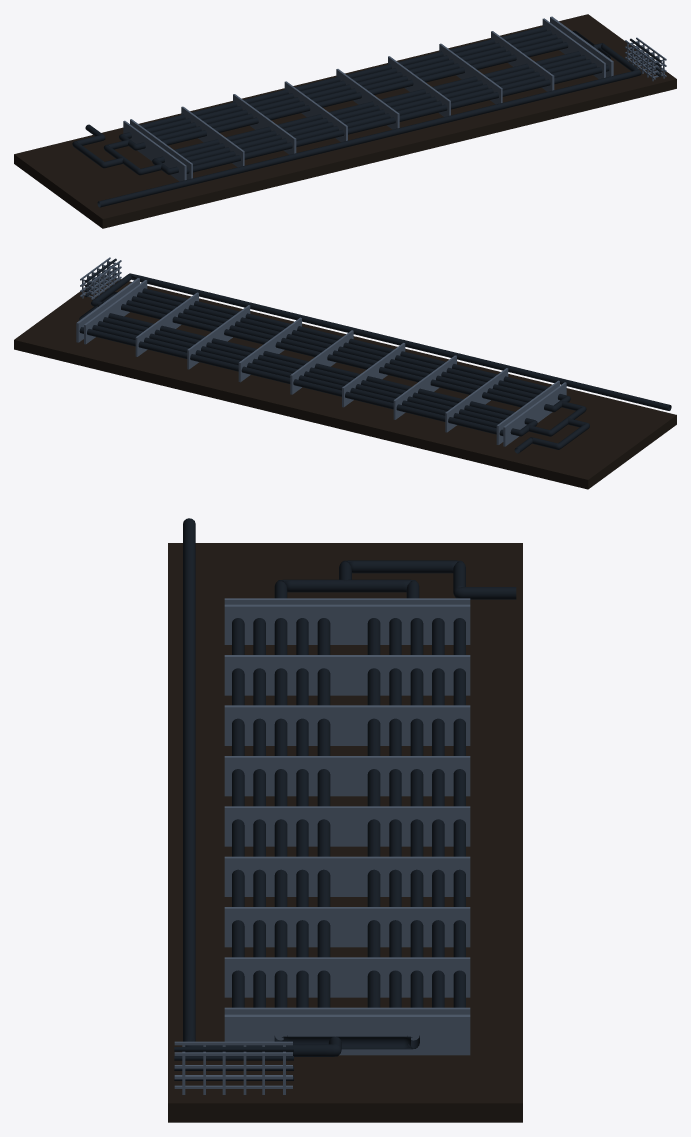
File: Slug Catcher.fbx
3 renders of one model, top to bottom at view 1: azimuth 30°, elevation 25°; view 2: azimuth 150°, elevation 25°; view 3: azimuth 270°, elevation 25°, orthographic. The views are drawn at different scales.
Visible parts, largest first — view 1: SlugCatcher; view 2: SlugCatcher; view 3: SlugCatcher.
Boxes of the visible parts, bbox=[...] form: SlugCatcher: bbox=[14, 14, 676, 228]; SlugCatcher: bbox=[14, 257, 676, 489]; SlugCatcher: bbox=[168, 518, 522, 1122].
Bounding box in the file's own units: 99.98 × 5.1 × 26.79.
